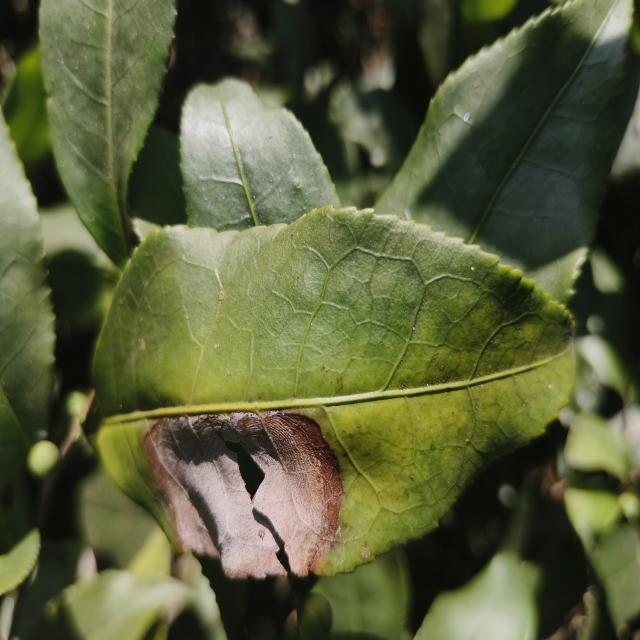Leaf: (94, 207, 573, 577), (375, 0, 634, 303), (39, 0, 176, 265), (179, 78, 340, 231), (0, 110, 55, 443), (414, 551, 538, 640), (297, 549, 411, 640), (564, 413, 630, 480)
